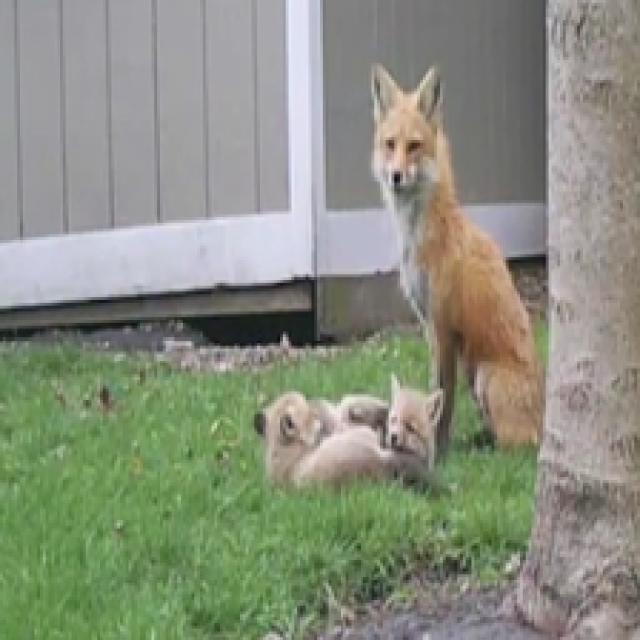fox: (325, 39, 613, 446), (238, 362, 472, 530)
